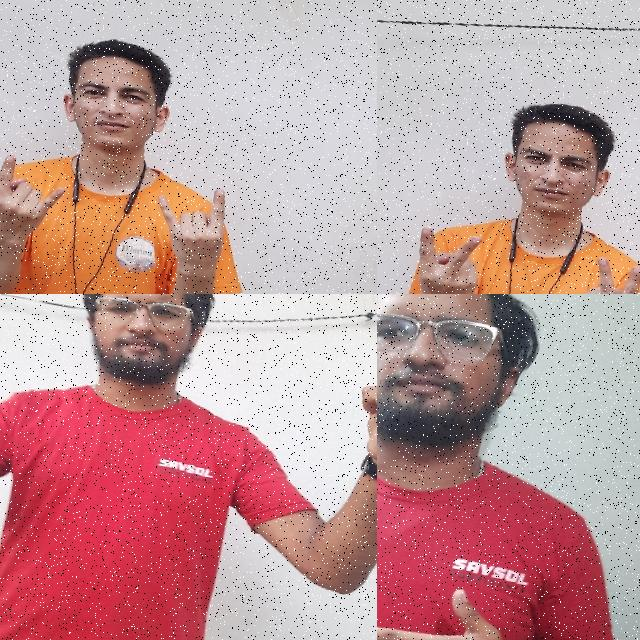Corna: (136, 170, 241, 286), (0, 138, 72, 248)
Five Fathers: (377, 542, 542, 640)
Reversed Victory: (394, 214, 492, 294), (334, 310, 377, 491), (564, 248, 640, 294)
